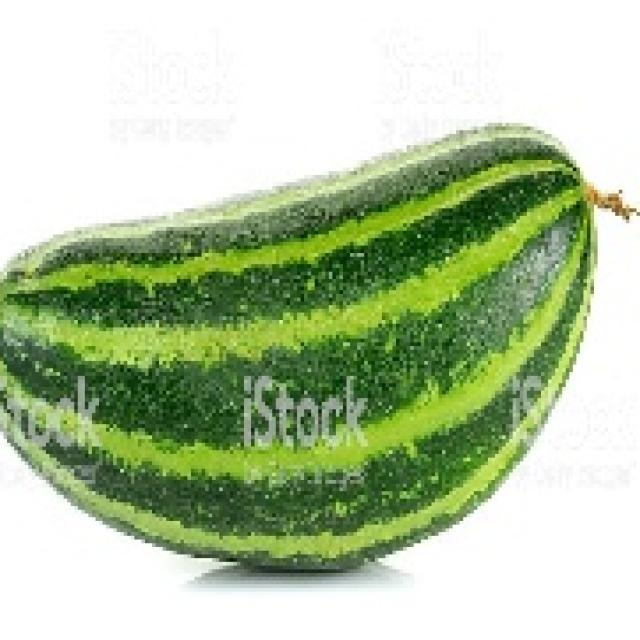cucumber: (0, 126, 598, 570)
